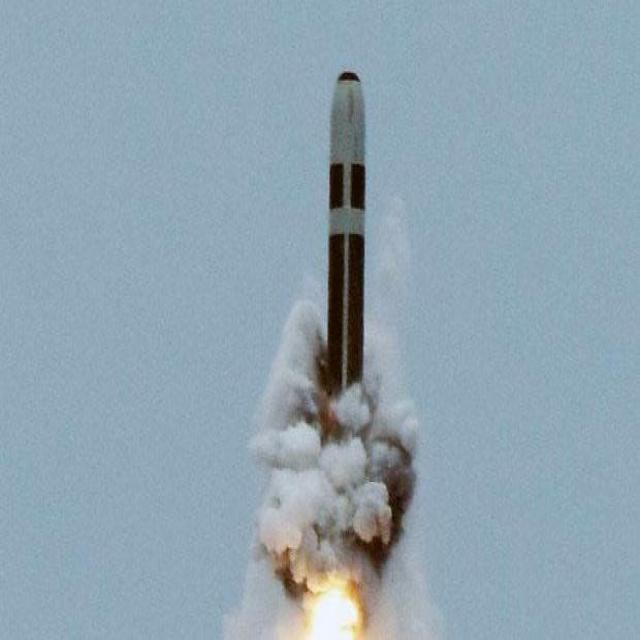missile: (308, 59, 399, 415)
